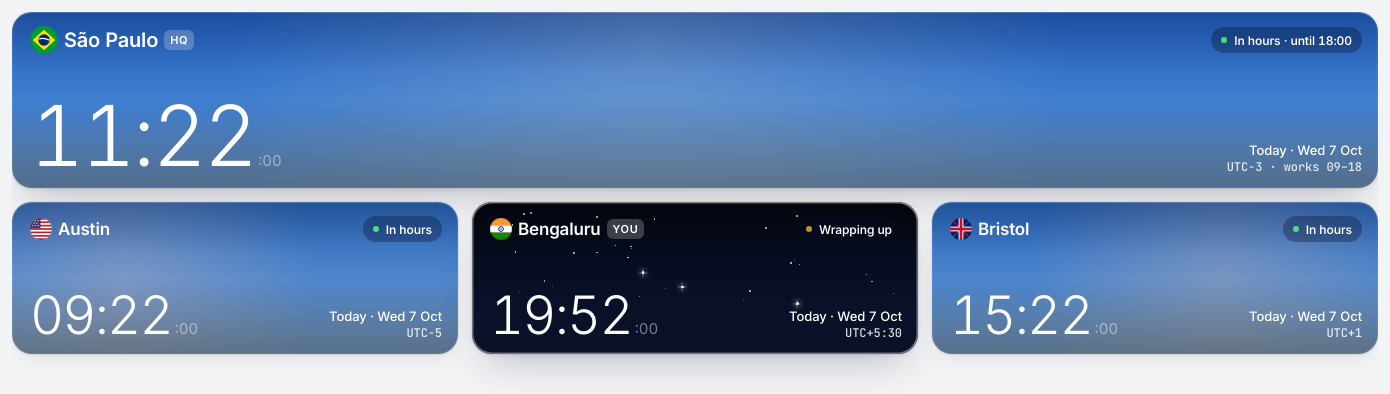
it: inline time edit › arrows nudge and Esc cancels without pinning
Click the button named "Set time in Austin": (114, 316) [24, 290, 204, 342]
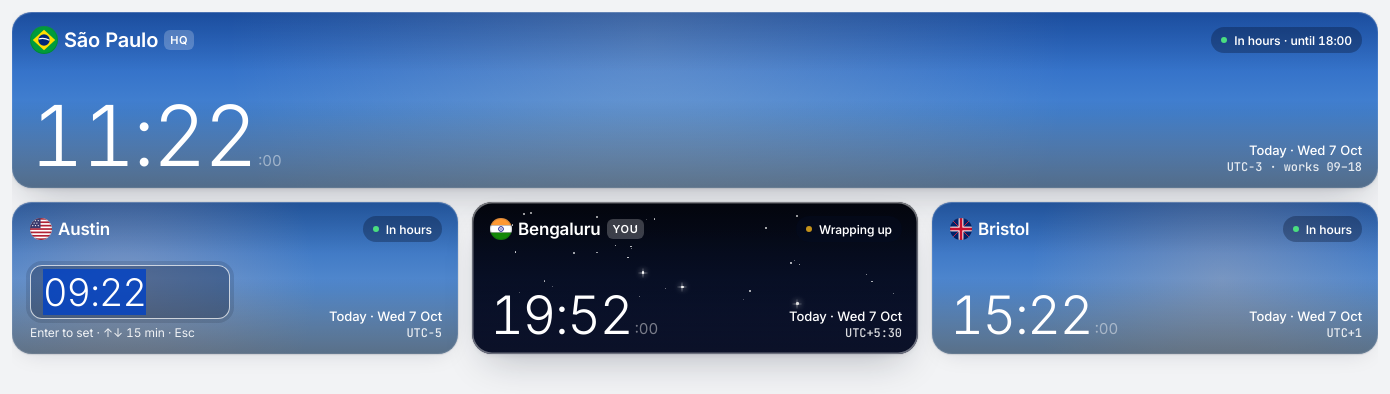
Press Arrowup
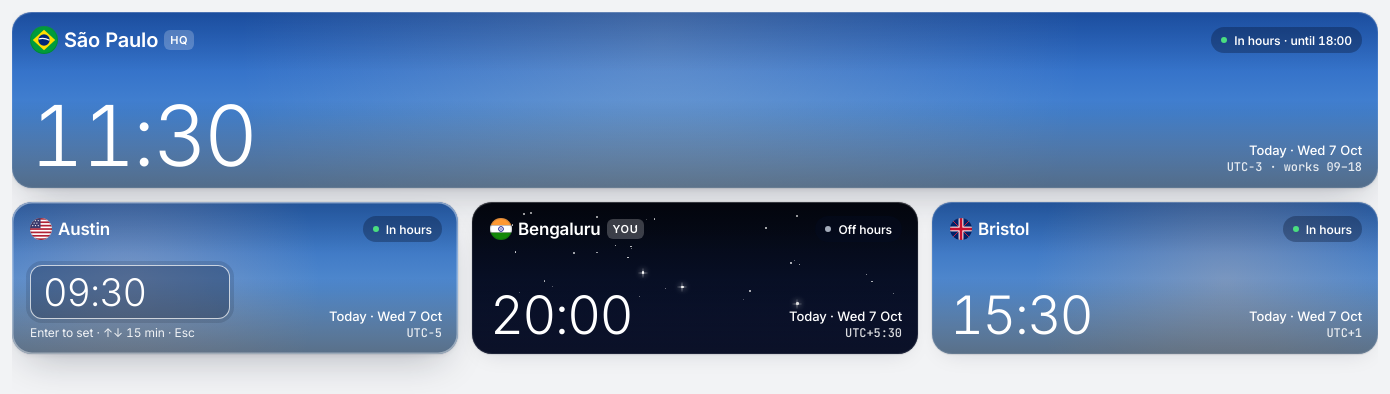
Press Escape
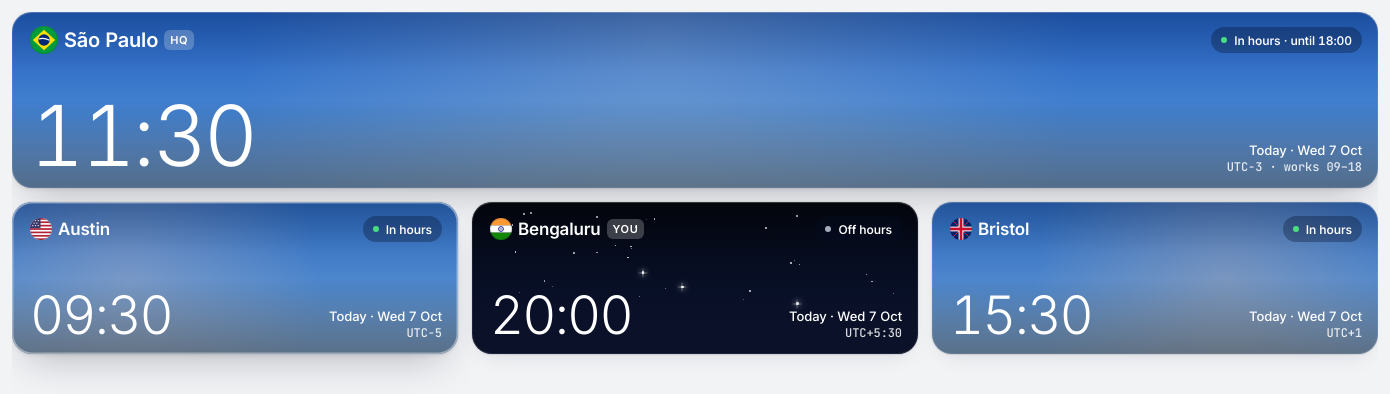
Result: the button named "Set time in Austin" is shown at [24, 290, 178, 342]
